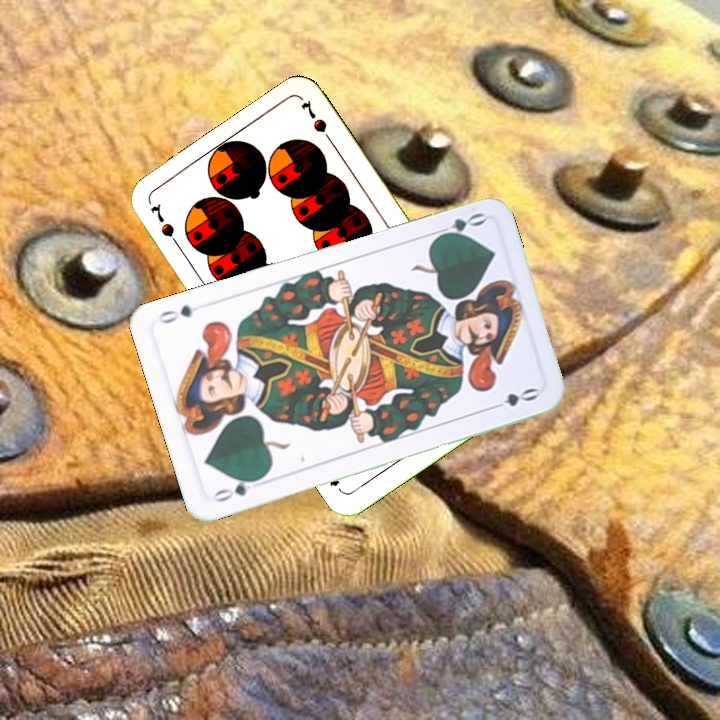GO: (429, 208, 488, 242), (210, 473, 264, 505)
S7: (146, 200, 185, 253)
